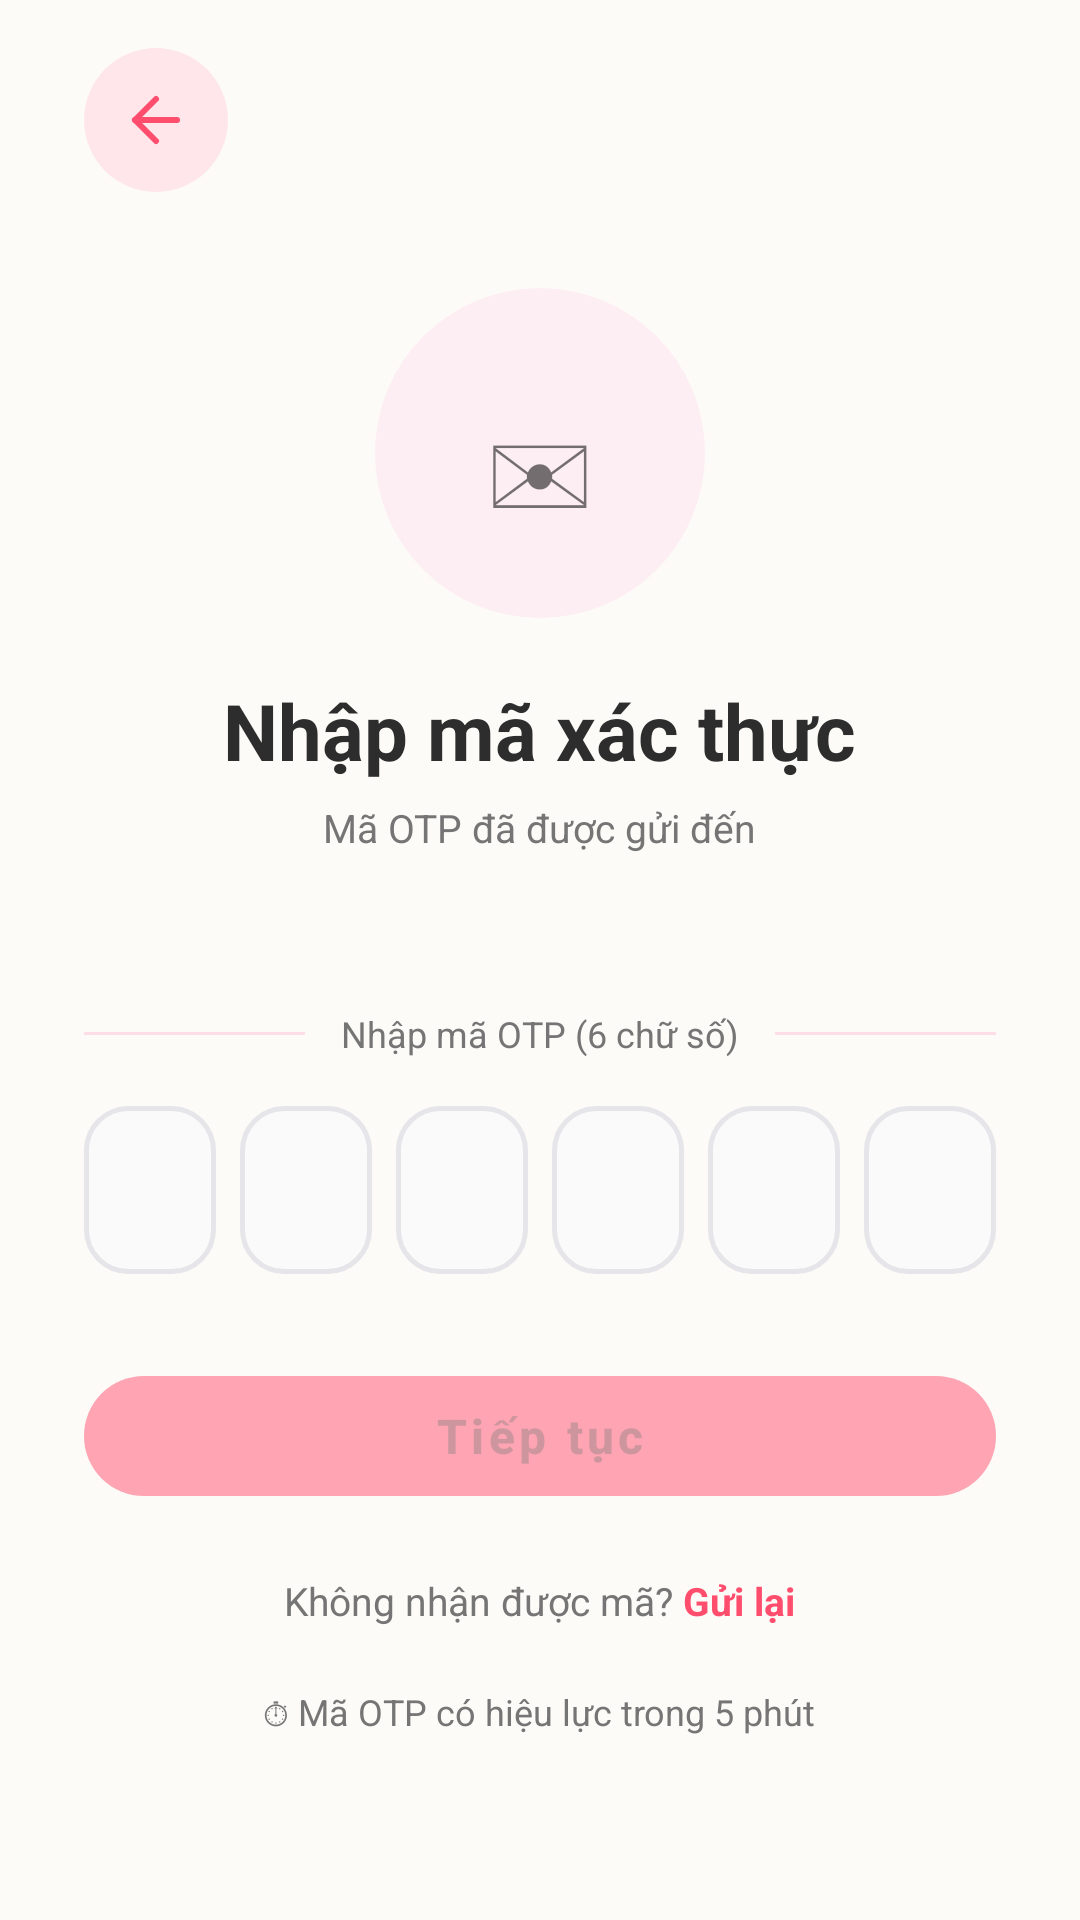

Screen size 1080*1920. Icon name, then its box in pixels as Rect(x1, y1, x2, y2):
back: Rect(84, 48, 228, 192)
